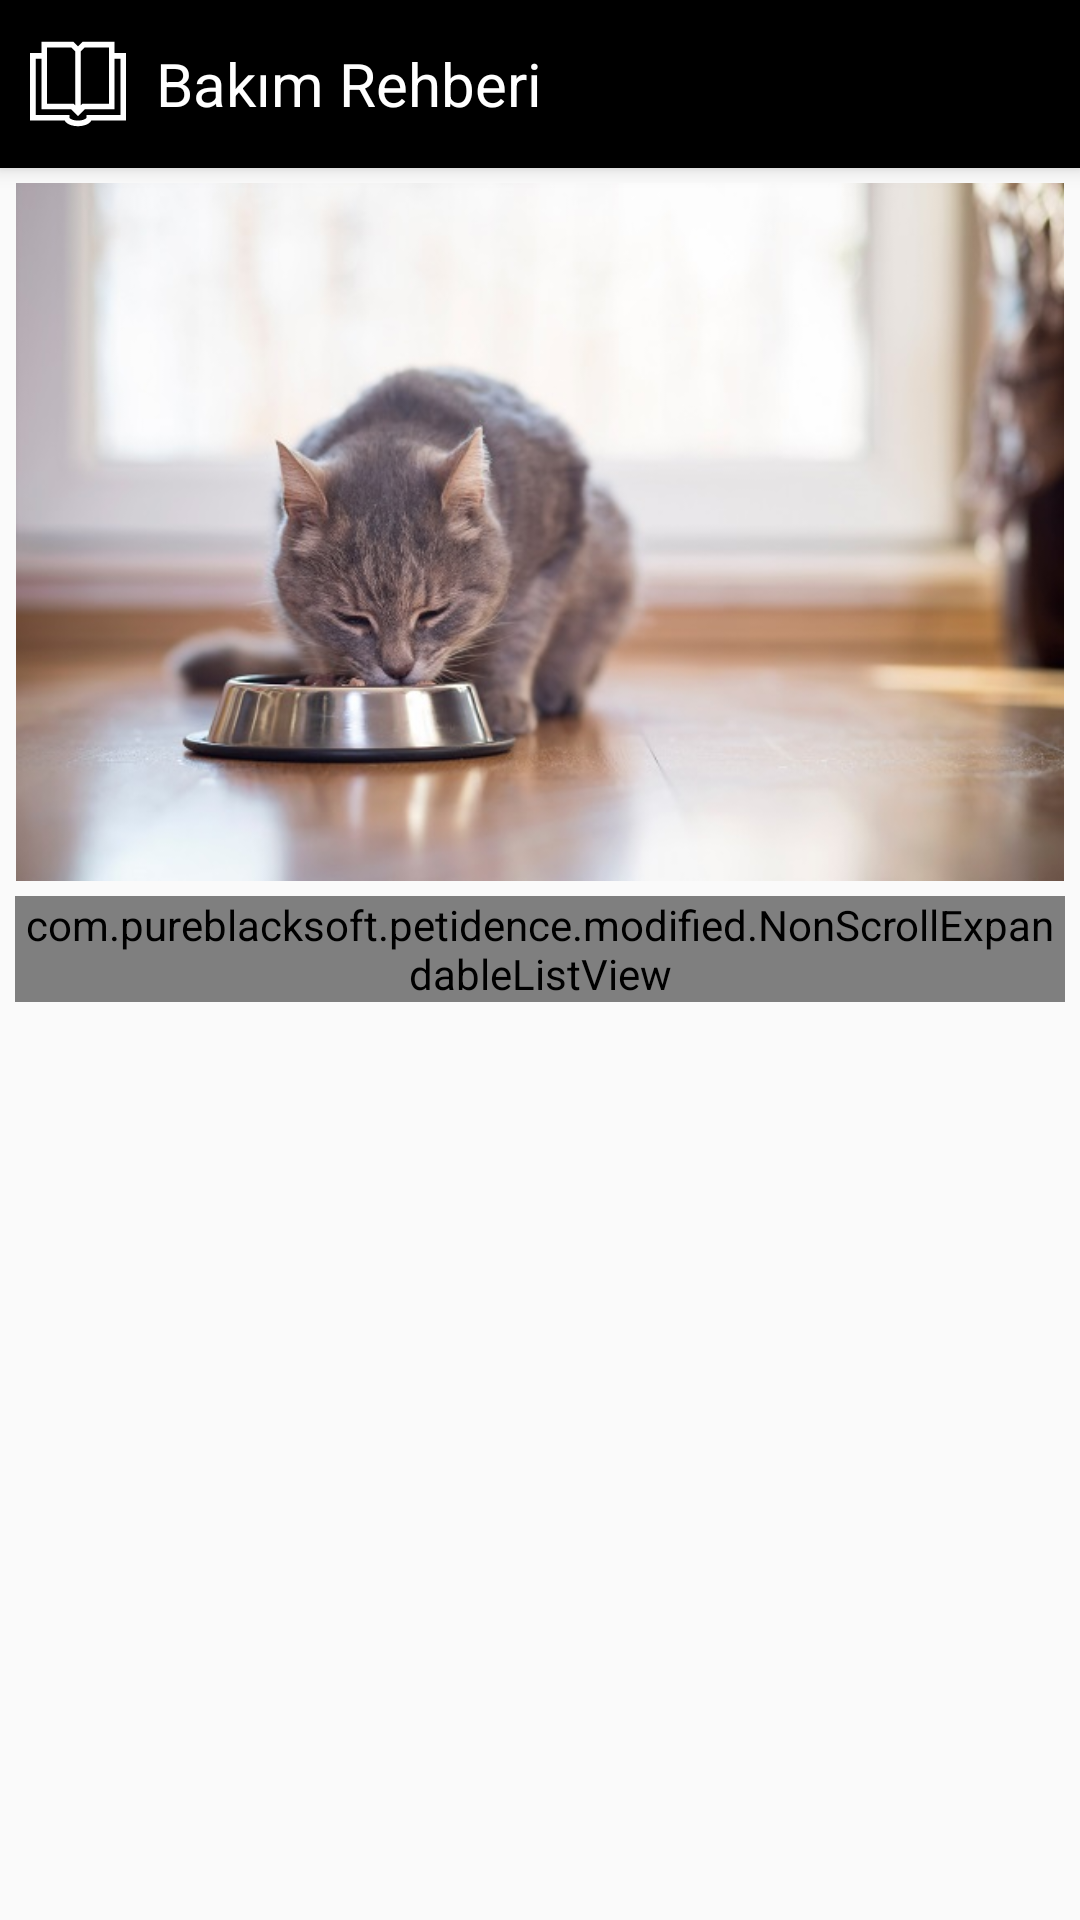

Point at icon controls on the screen. Image size 1080px x 1920px, points as [x,y].
guide bwhite: [78,84]
